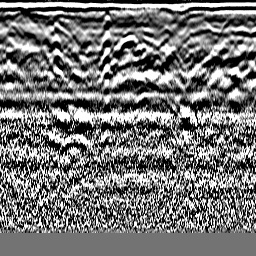cavity: (118, 32, 138, 52)
